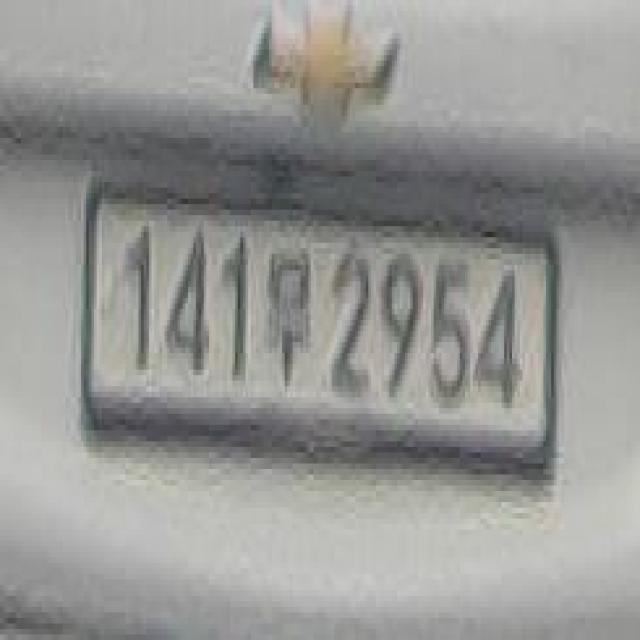illegal_plate: (81, 175, 558, 507)
